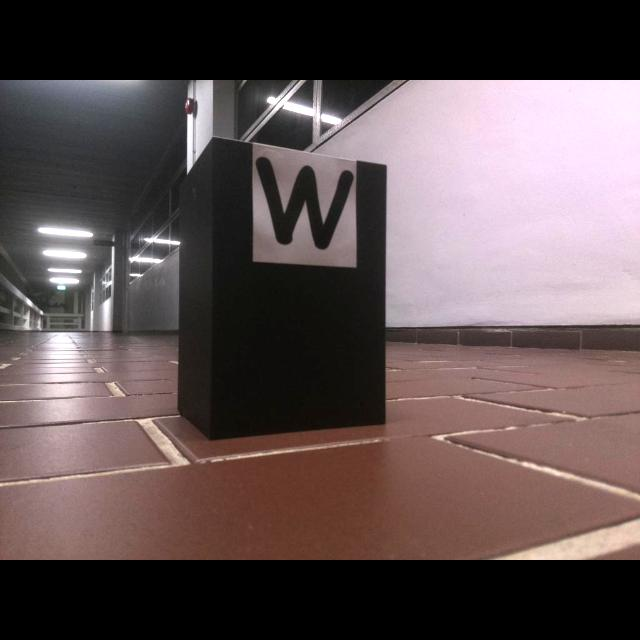W: (254, 155, 356, 253)
